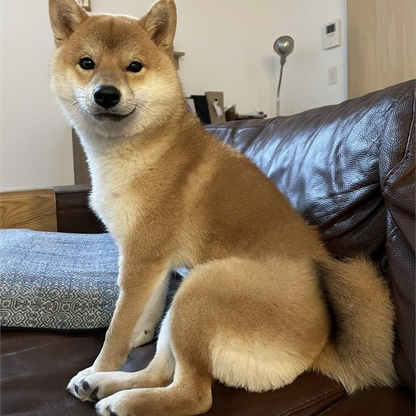shiba: (40, 1, 398, 416)
